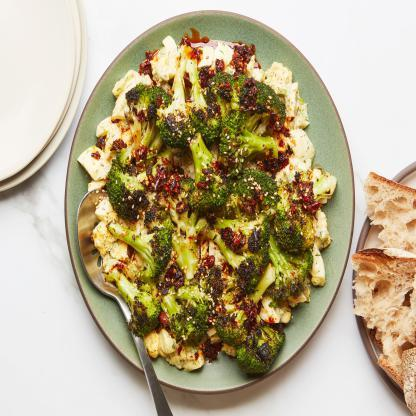broccoli: (76, 24, 339, 382)
